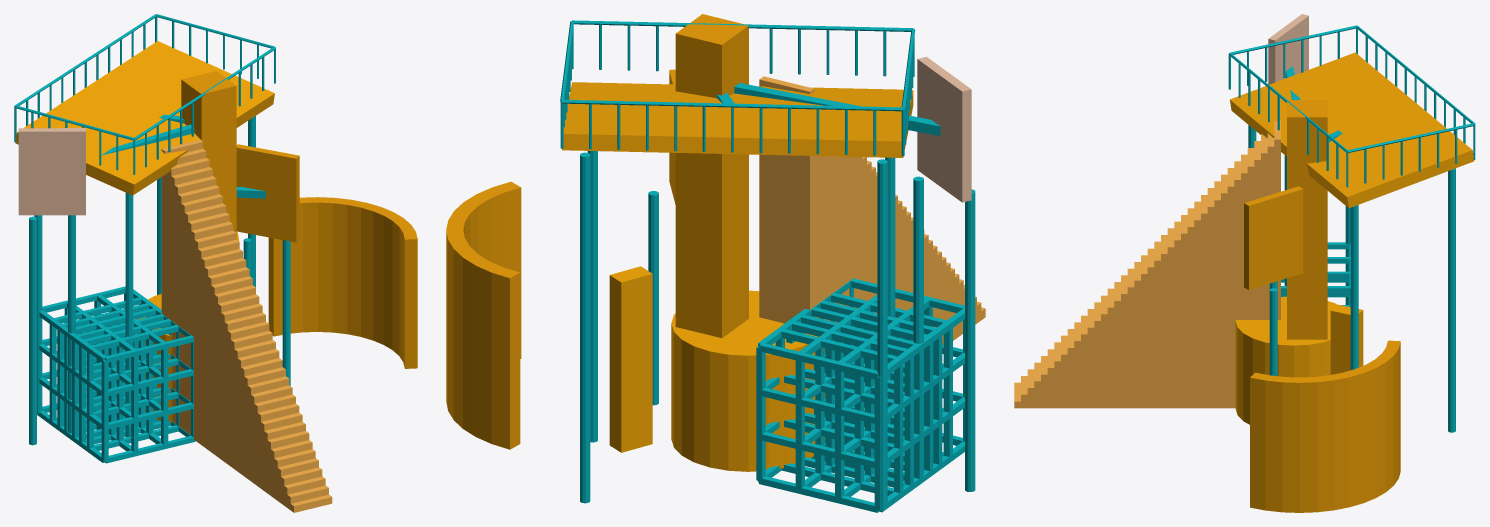
Rendered from folie_tag_098.glb.
The picture shows the model from 3 angles, left to right: view 1: azimuth 30°, elevation 25°; view 2: azimuth 150°, elevation 25°; view 3: azimuth 270°, elevation 25°; orthographic projection. The views are drawn at different scales.
Parts seen in each view (by area): view 1: folie_tag_098_stairs, folie_tag_098_02_curve, folie_tag_098_line, folie_tag_098_00_plate, folie_tag_098_03_cage, folie_tag_098_04_cage, folie_tag_098_05_panel, folie_tag_098_06_panel, folie_tag_098_core, folie_tag_098_01_drum; view 2: folie_tag_098_line, folie_tag_098_04_cage, folie_tag_098_stairs, folie_tag_098_00_plate, folie_tag_098_core, folie_tag_098_02_curve, folie_tag_098_01_drum, folie_tag_098_03_cage, folie_tag_098_07_fin, folie_tag_098_05_panel; view 3: folie_tag_098_stairs, folie_tag_098_02_curve, folie_tag_098_00_plate, folie_tag_098_line, folie_tag_098_core, folie_tag_098_06_panel, folie_tag_098_01_drum, folie_tag_098_05_panel, folie_tag_098_07_fin, folie_tag_098_04_cage.
Part boxes in pixels (x1,y1,x2,y2): folie_tag_098_stairs: (161, 139, 332, 512); folie_tag_098_02_curve: (268, 197, 417, 368); folie_tag_098_line: (14, 14, 290, 445); folie_tag_098_00_plate: (15, 41, 274, 195); folie_tag_098_03_cage: (57, 302, 195, 463); folie_tag_098_04_cage: (37, 286, 171, 446); folie_tag_098_05_panel: (18, 128, 85, 215); folie_tag_098_06_panel: (236, 144, 299, 242); folie_tag_098_core: (181, 71, 236, 239); folie_tag_098_01_drum: (137, 294, 172, 423); folie_tag_098_line: (560, 20, 975, 509); folie_tag_098_04_cage: (756, 300, 942, 512); folie_tag_098_stairs: (759, 76, 985, 344); folie_tag_098_00_plate: (562, 82, 913, 157); folie_tag_098_core: (675, 14, 748, 338); folie_tag_098_02_curve: (446, 181, 521, 449); folie_tag_098_01_drum: (671, 290, 825, 471); folie_tag_098_03_cage: (786, 278, 964, 488); folie_tag_098_07_fin: (609, 266, 652, 452); folie_tag_098_05_panel: (917, 56, 971, 202); folie_tag_098_stairs: (1014, 121, 1280, 408); folie_tag_098_02_curve: (1250, 340, 1400, 512); folie_tag_098_00_plate: (1230, 52, 1474, 208); folie_tag_098_line: (1228, 25, 1475, 432); folie_tag_098_core: (1287, 100, 1327, 339); folie_tag_098_06_panel: (1244, 186, 1303, 289); folie_tag_098_01_drum: (1235, 296, 1337, 424); folie_tag_098_05_panel: (1268, 14, 1308, 84); folie_tag_098_07_fin: (1330, 304, 1363, 374); folie_tag_098_04_cage: (1281, 242, 1350, 306).
Size of the model in its own units: 12.04 by 9.33 by 12.46.
